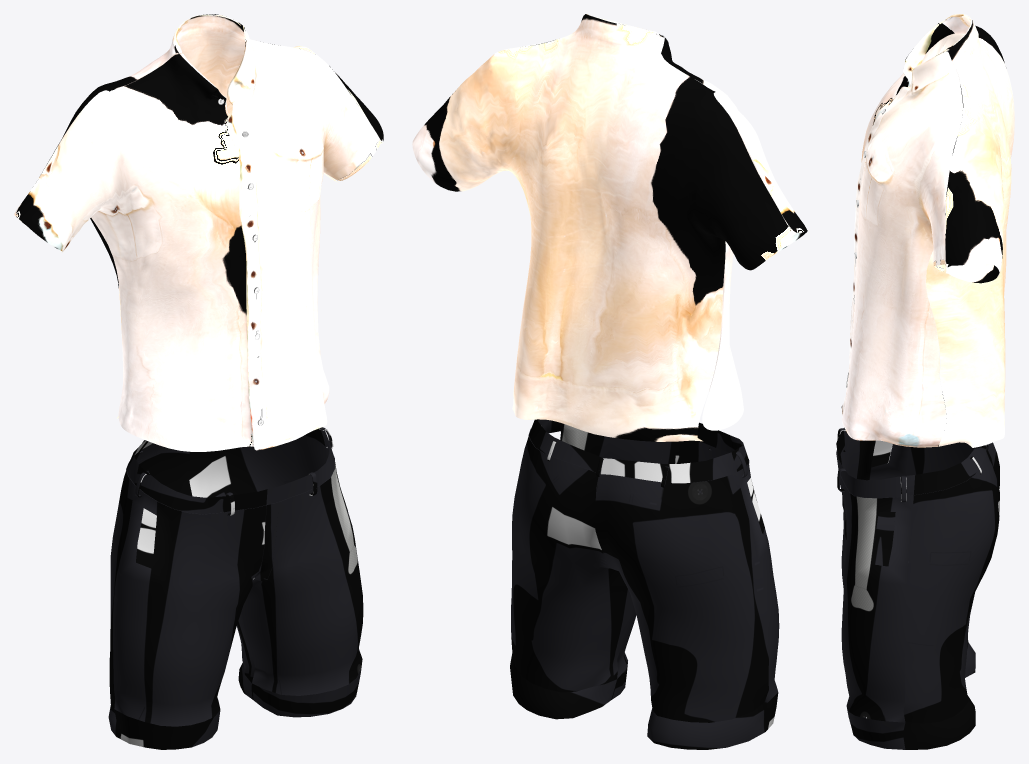
Rendered from short_shirt_material_shorts.glb.
3 views of the same model, side by side, from view 1: azimuth 30°, elevation 25°; view 2: azimuth 150°, elevation 25°; view 3: azimuth 270°, elevation 25° (orthographic). The views are drawn at different scales.
Visible parts, largest first — view 1: all, all_two; view 2: all, all_two; view 3: all, all_two.
Part boxes in pixels (x1,y1,x2,y2): all: (14, 14, 383, 451); all_two: (108, 427, 363, 749); all: (412, 14, 807, 441); all_two: (510, 419, 779, 749); all: (841, 14, 1014, 447); all_two: (836, 394, 999, 749).
Bounding box in the file's own units: 0.4246 × 0.7524 × 0.1806.
3 materials, 2 textured.
